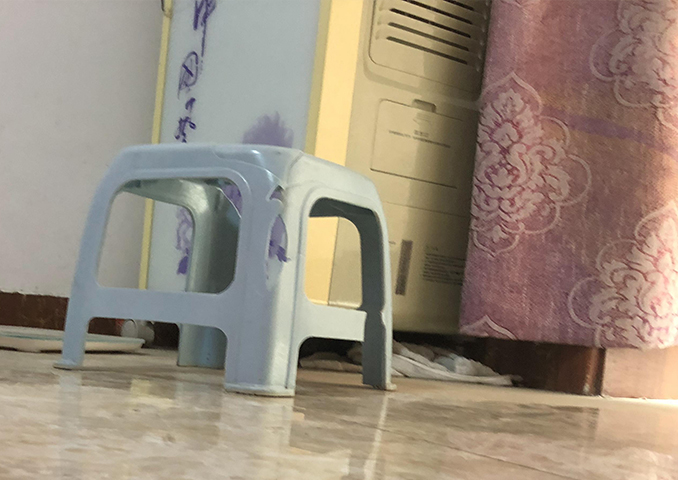curtain: (457, 1, 678, 352)
stool: (51, 141, 398, 398)
